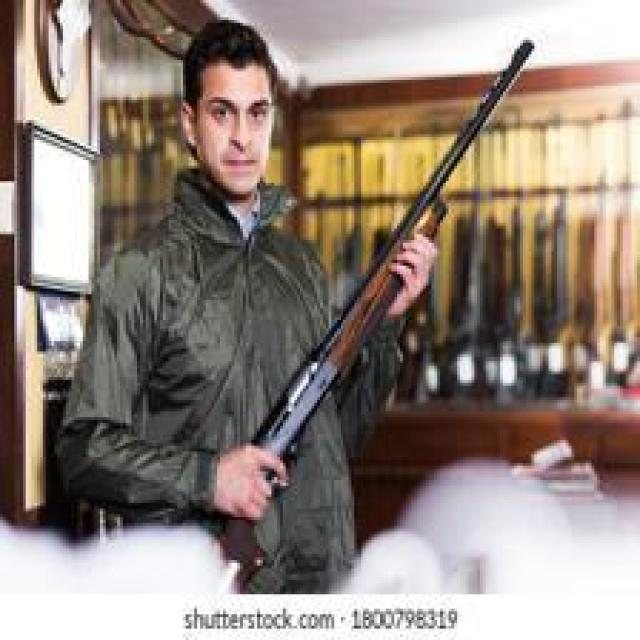Rifle: (215, 34, 540, 595)
